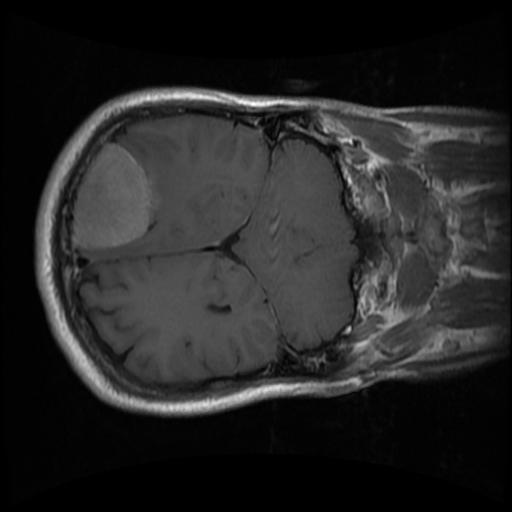meningioma: (70, 143, 153, 249)
